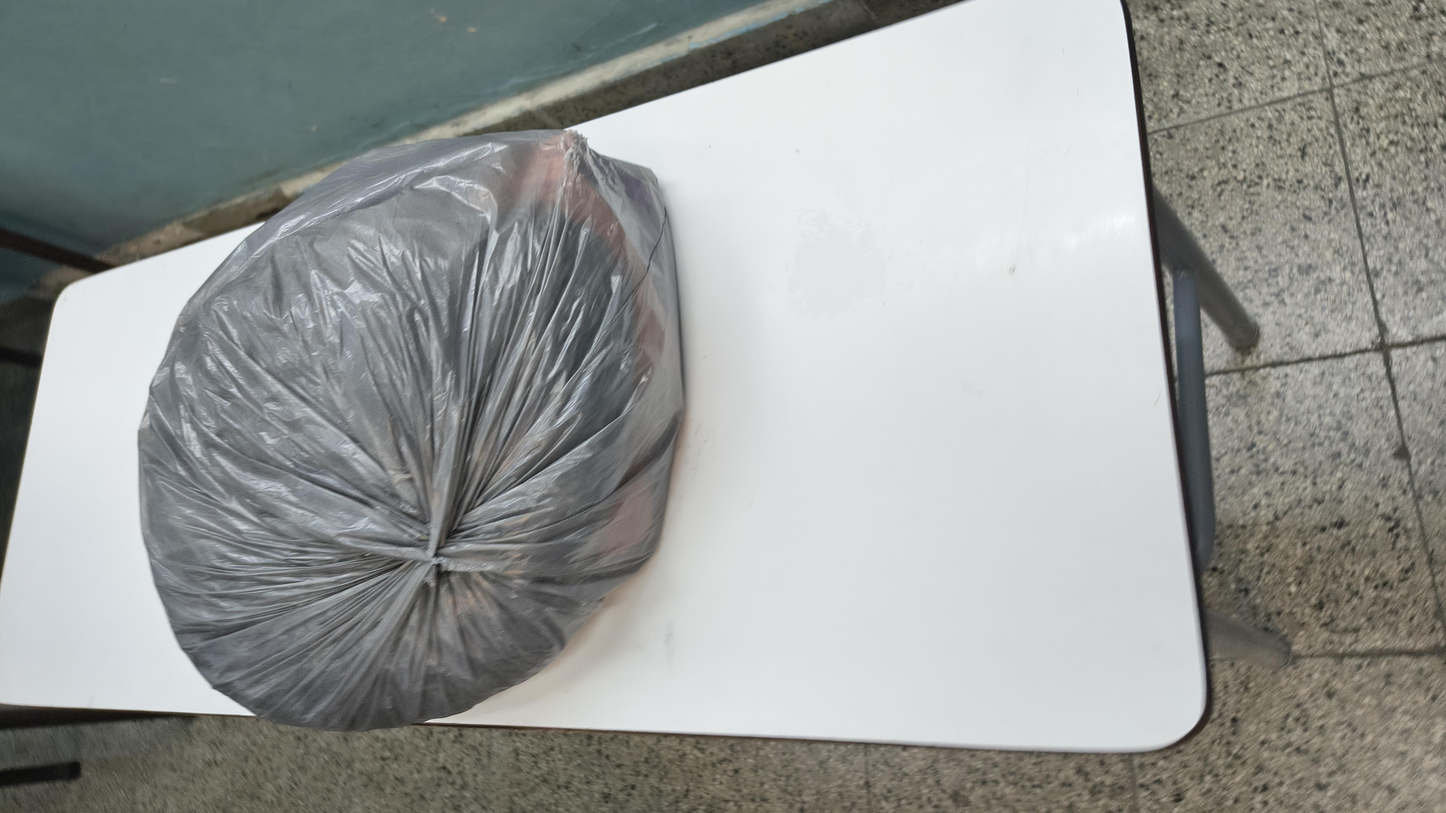Garbage: (113, 38, 1331, 417)
